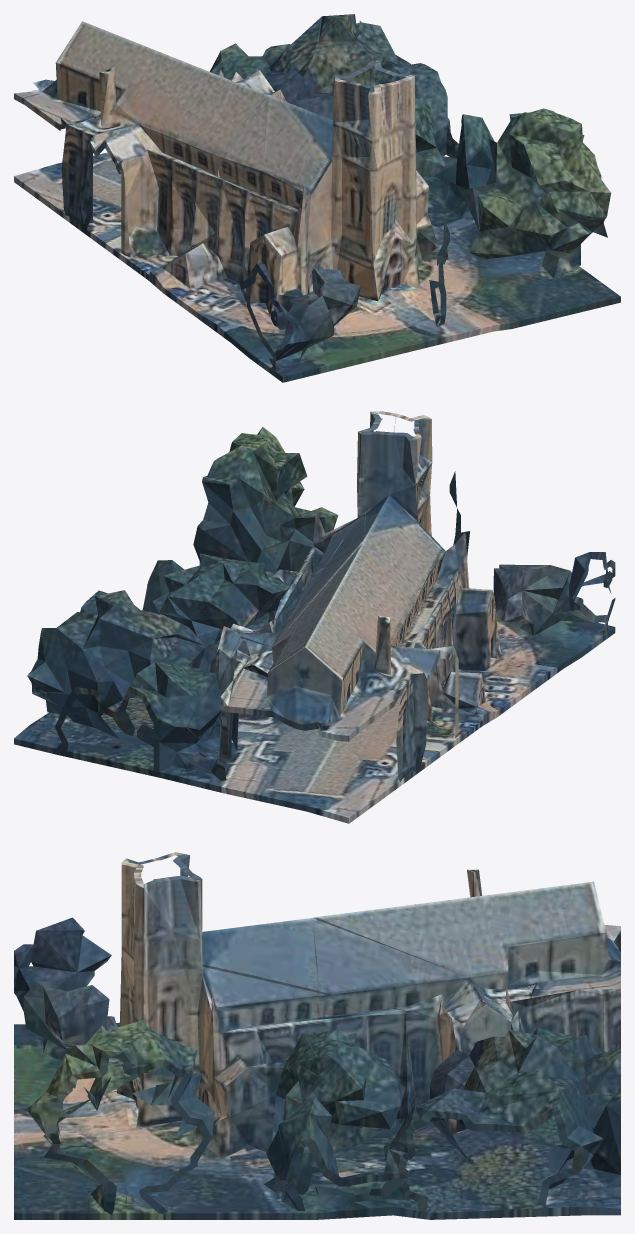
The model's file is chunk_6_5.glb.
The picture shows the model from 3 angles, top to bottom: view 1: azimuth 30°, elevation 25°; view 2: azimuth 150°, elevation 25°; view 3: azimuth 270°, elevation 25°; orthographic projection. The views are drawn at different scales.
Parts seen in each view (by area): view 1: hero-chunk; view 2: hero-chunk; view 3: hero-chunk.
Part boxes in pixels (x1,y1,x2,y2): hero-chunk: (14,14,620,382); hero-chunk: (14,411,615,823); hero-chunk: (14,852,620,1219).
Bounding box in the file's own units: 56.35 × 34.66 × 76.32.
Materials: 1 (1 with a texture image).
